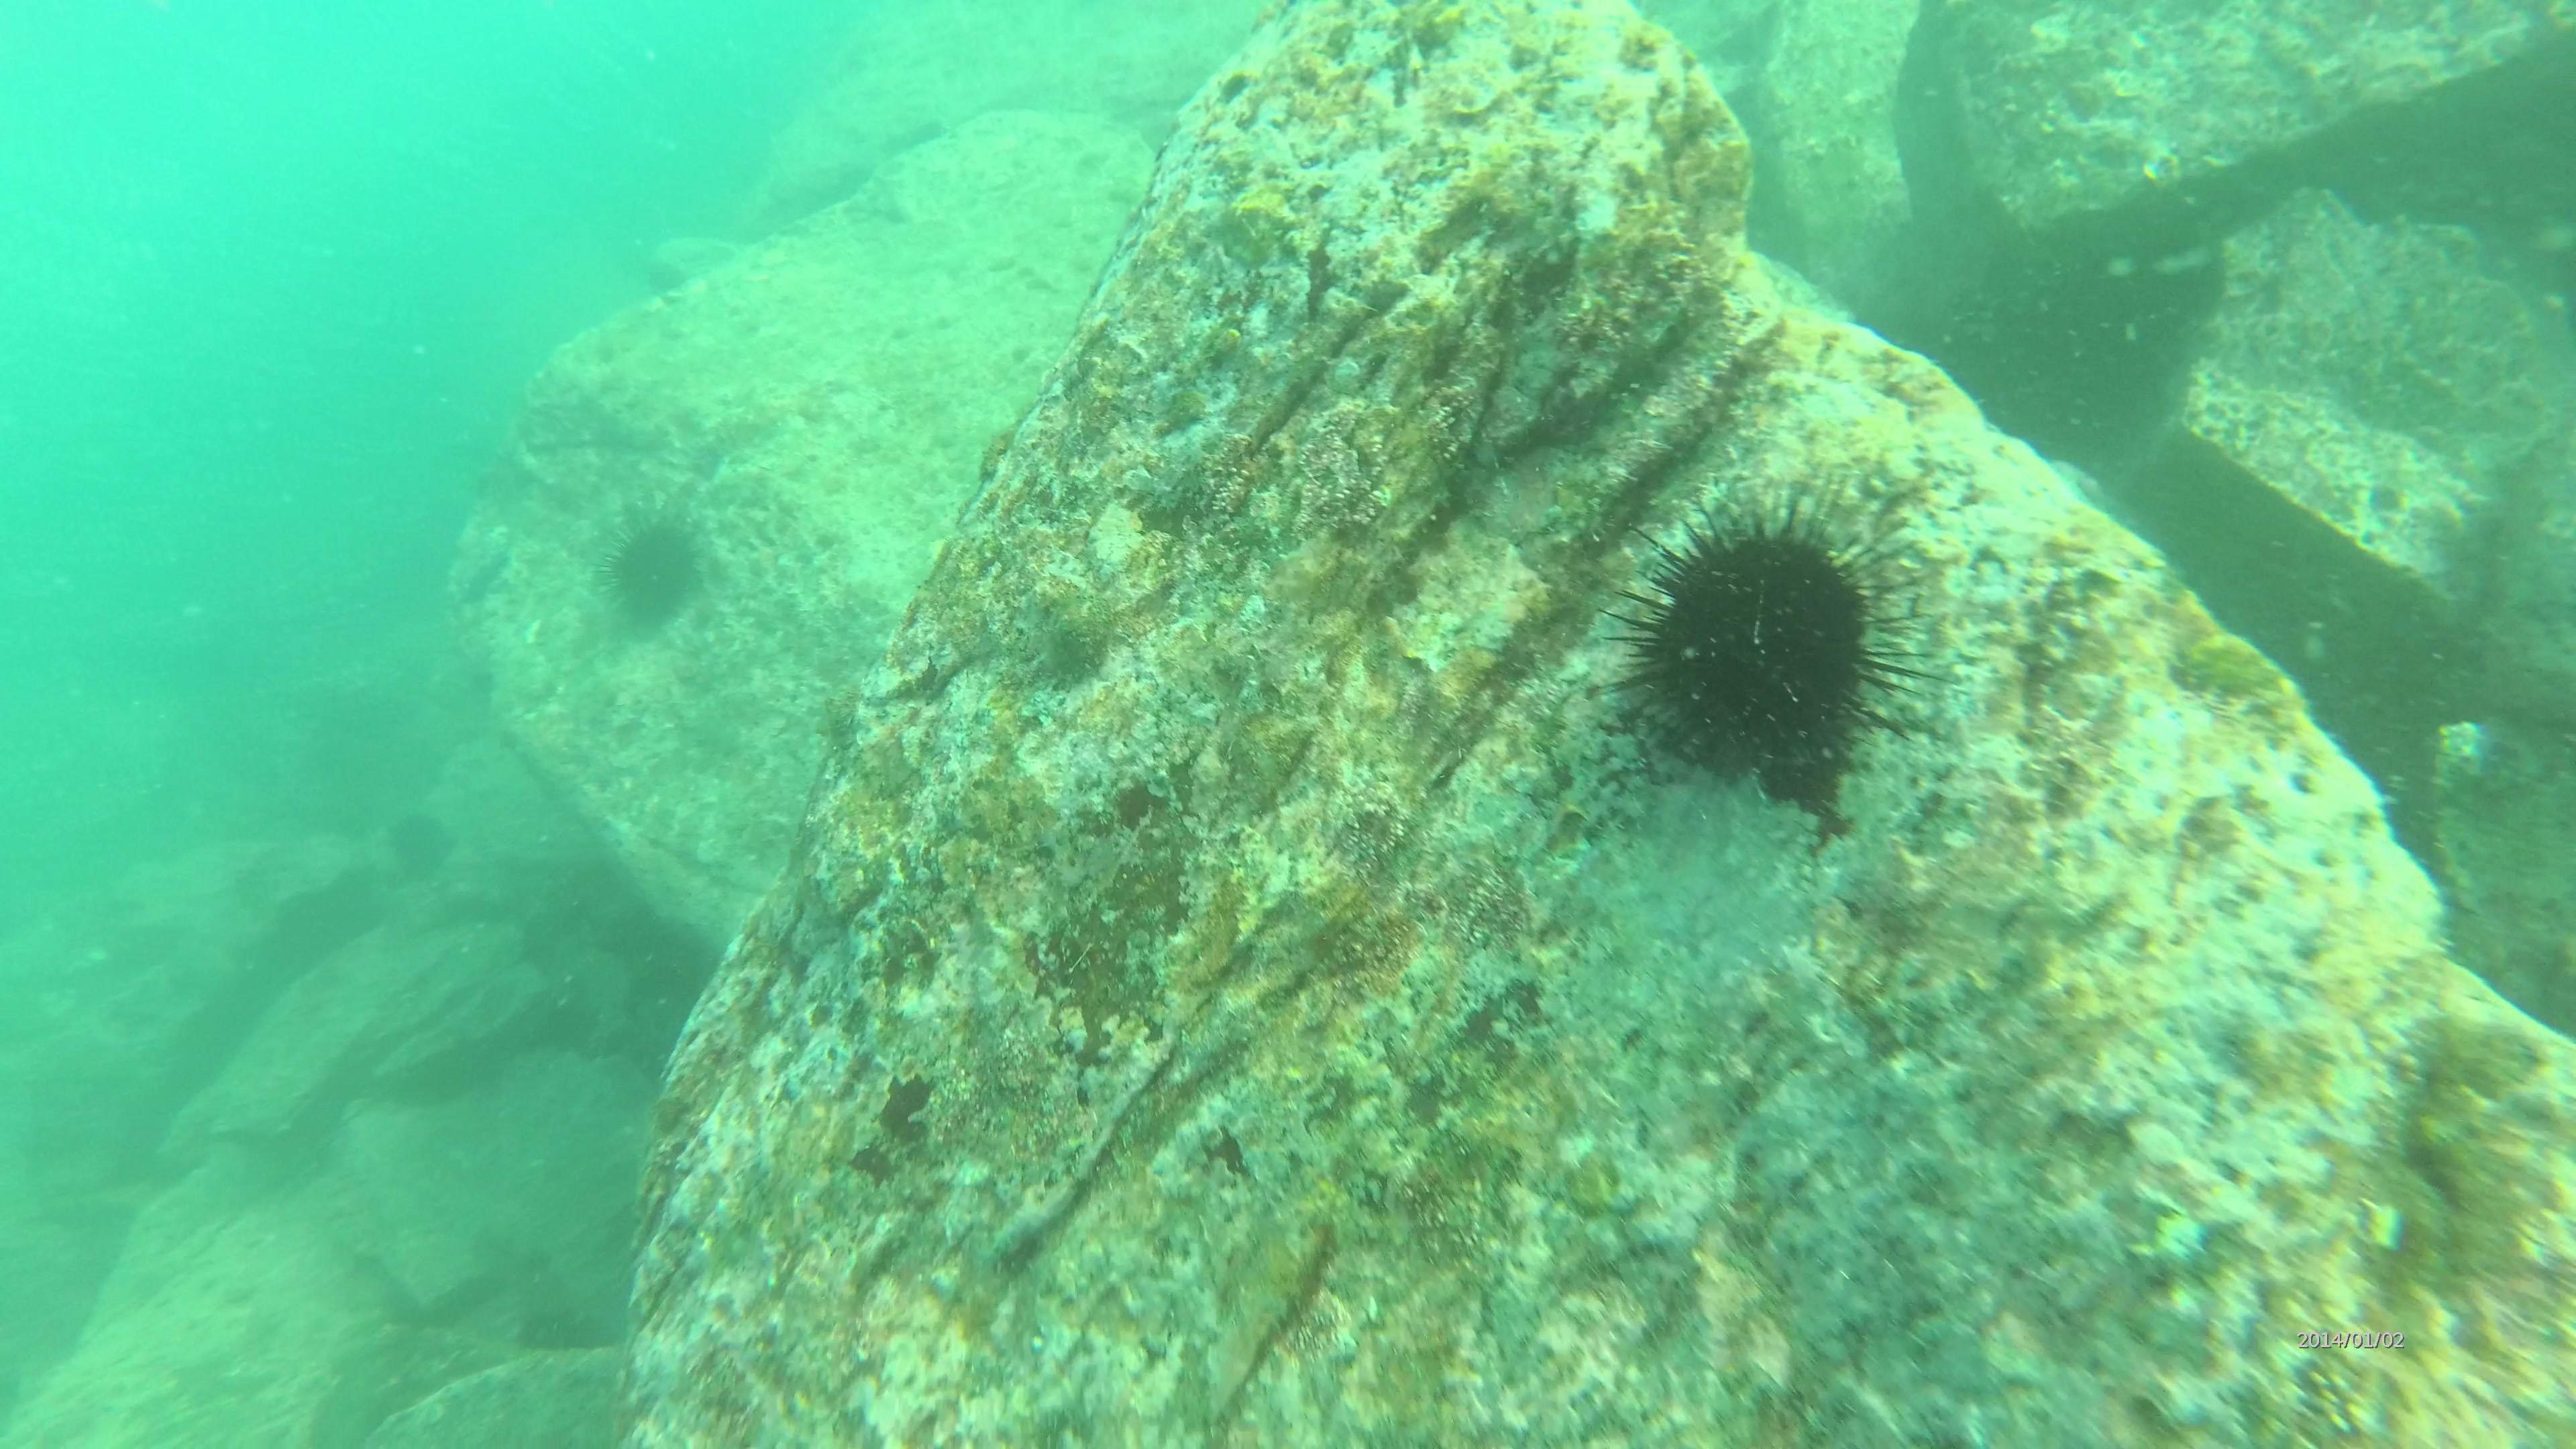echinus: (1589, 464, 1948, 789), (589, 502, 727, 640), (380, 800, 469, 899)
